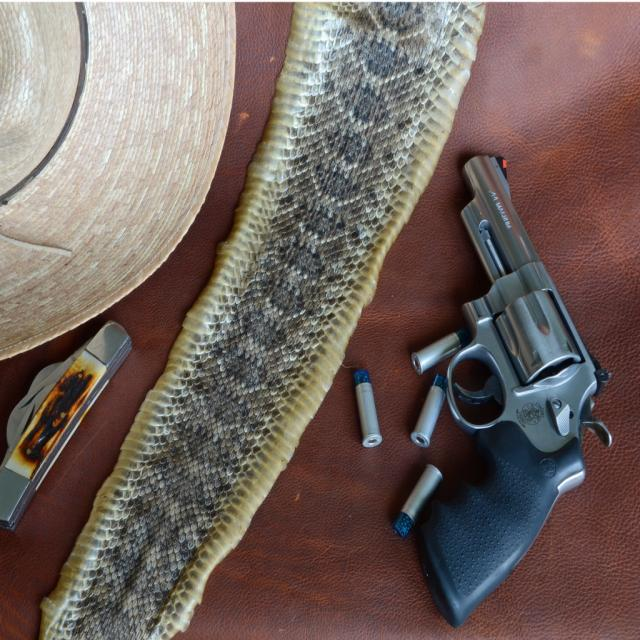Gun: (421, 156, 612, 627)
